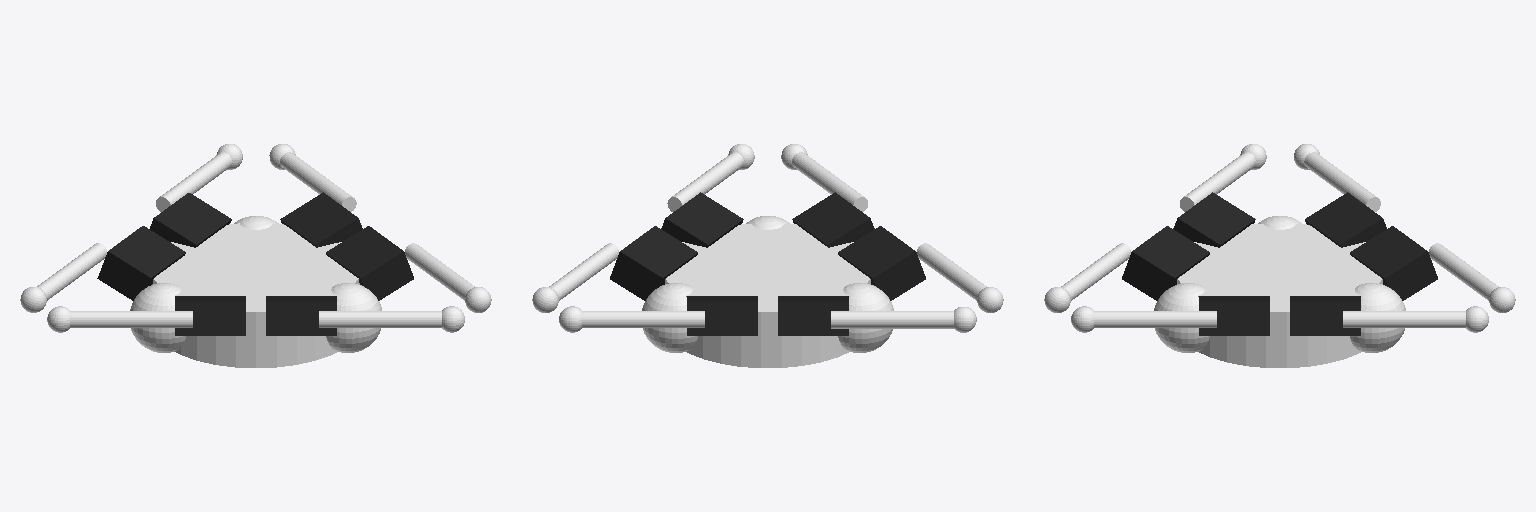
robot.urdf — robot:
<?xml version="1.0" ?>
<!-- =================================================================================== -->
<!-- |    This document was autogenerated by xacro from robot.urdf.xacro               | -->
<!-- |    EDITING THIS FILE BY HAND IS NOT RECOMMENDED                                 | -->
<!-- =================================================================================== -->
<robot name="robot">
  <!--model of the base of the robot without collision on the main geometries. Spheres are used to set collisions-->
  <material name="white">
    <color rgba="0.95 0.95 0.95 1"/>
  </material>
  <material name="black">
    <color rgba="0.2 0.2 0.2 1"/>
  </material>
  <!--Base  of the robot -->
  <link name="base_link">
    <visual>
      <material name="white"/>
      <geometry>
        <cylinder length="0.035" radius="0.06"/>
        <!-- <mesh filename="package://robot/urdf/simplified_base_model.stl"/> -->
      </geometry>
      <origin rpy="0 0 -0.523" xyz="0 0 0.02"/>
    </visual>
    <inertial>
      <origin rpy="0 0 0" xyz="0 0 1"/>
      <mass value="0.15"/>
      <inertia ixx="0.00024" ixy="0.0" ixz="0.0" iyy="0.00025" iyz="0.0" izz="0.00041"/>
    </inertial>
  </link>
  <!--servo link macro-->
  <!--macro for collision spheres-->
  <!--add collision spheres to base-->
  <joint name="collision_joint1" type="fixed">
    <parent link="base_link"/>
    <child link="collision_link1"/>
    <origin xyz="-0.06 0.0 0.02"/>
  </joint>
  <link name="collision_link1">
    <visual>
      <material name="white"/>
      <geometry>
        <sphere radius="0.02"/>
      </geometry>
    </visual>
    <collision>
      <geometry>
        <sphere radius="0.02"/>
      </geometry>
    </collision>
    <inertial>
      <origin xyz="0.0 0.0 0.0"/>
      <mass value="0.06"/>
      <inertia ixx="0.000015" ixy="0.0" ixz="0.0" iyy="0.000015" iyz="0.0" izz="0.000015"/>
    </inertial>
  </link>
  <joint name="collision_joint2" type="fixed">
    <parent link="base_link"/>
    <child link="collision_link2"/>
    <origin xyz="0.03 -0.0519 0.02"/>
  </joint>
  <link name="collision_link2">
    <visual>
      <material name="white"/>
      <geometry>
        <sphere radius="0.02"/>
      </geometry>
    </visual>
    <collision>
      <geometry>
        <sphere radius="0.02"/>
      </geometry>
    </collision>
    <inertial>
      <origin xyz="0.0 0.0 0.0"/>
      <mass value="0.06"/>
      <inertia ixx="0.000015" ixy="0.0" ixz="0.0" iyy="0.000015" iyz="0.0" izz="0.000015"/>
    </inertial>
  </link>
  <joint name="collision_joint3" type="fixed">
    <parent link="base_link"/>
    <child link="collision_link3"/>
    <origin xyz="0.03 0.0519 0.02"/>
  </joint>
  <link name="collision_link3">
    <visual>
      <material name="white"/>
      <geometry>
        <sphere radius="0.02"/>
      </geometry>
    </visual>
    <collision>
      <geometry>
        <sphere radius="0.02"/>
      </geometry>
    </collision>
    <inertial>
      <origin xyz="0.0 0.0 0.0"/>
      <mass value="0.06"/>
      <inertia ixx="0.000015" ixy="0.0" ixz="0.0" iyy="0.000015" iyz="0.0" izz="0.000015"/>
    </inertial>
  </link>
  <!--add joints and links for the servos -->
  <joint name="servo1_joint" type="fixed">
    <parent link="base_link"/>
    <child link="servo1_link"/>
    <origin rpy="0 -0.349066 2.0944" xyz="-0.07159 0.05282 0.043"/>
  </joint>
  <link name="servo1_link">
    <visual>
      <material name="black"/>
      <geometry>
        <box size="0.030 0.040 0.020"/>
      </geometry>
      <origin xyz="-0.023 -0.010 0"/>
    </visual>
    <inertial>
      <origin xyz="-0.023 -0.010 0"/>
      <mass value="0.060"/>
      <inertia ixx="0.00001" ixy="0.0" ixz="0.0" iyy="0.0000065" iyz="0.0" izz="0.0000125"/>
    </inertial>
  </link>
  <joint name="servo2_joint" type="fixed">
    <parent link="base_link"/>
    <child link="servo2_link"/>
    <origin rpy="3.14159 -0.349066 2.0944" xyz="-0.00967 0.08825 0.043"/>
  </joint>
  <link name="servo2_link">
    <visual>
      <material name="black"/>
      <geometry>
        <box size="0.030 0.040 0.020"/>
      </geometry>
      <origin xyz="-0.023 -0.010 0"/>
    </visual>
    <inertial>
      <origin xyz="-0.023 -0.010 0"/>
      <mass value="0.060"/>
      <inertia ixx="0.00001" ixy="0.0" ixz="0.0" iyy="0.0000065" iyz="0.0" izz="0.0000125"/>
    </inertial>
  </link>
  <joint name="servo3_joint" type="fixed">
    <parent link="base_link"/>
    <child link="servo3_link"/>
    <origin rpy="0 -0.349066 0" xyz="0.08126 0.03575 0.043"/>
  </joint>
  <link name="servo3_link">
    <visual>
      <material name="black"/>
      <geometry>
        <box size="0.030 0.040 0.020"/>
      </geometry>
      <origin xyz="-0.023 -0.010 0"/>
    </visual>
    <inertial>
      <origin xyz="-0.023 -0.010 0"/>
      <mass value="0.060"/>
      <inertia ixx="0.00001" ixy="0.0" ixz="0.0" iyy="0.0000065" iyz="0.0" izz="0.0000125"/>
    </inertial>
  </link>
  <joint name="servo4_joint" type="fixed">
    <parent link="base_link"/>
    <child link="servo4_link"/>
    <origin rpy="3.14159 -0.349066 0" xyz="0.08126 -0.03567 0.043"/>
  </joint>
  <link name="servo4_link">
    <visual>
      <material name="black"/>
      <geometry>
        <box size="0.030 0.040 0.020"/>
      </geometry>
      <origin xyz="-0.023 -0.010 0"/>
    </visual>
    <inertial>
      <origin xyz="-0.023 -0.010 0"/>
      <mass value="0.060"/>
      <inertia ixx="0.00001" ixy="0.0" ixz="0.0" iyy="0.0000065" iyz="0.0" izz="0.0000125"/>
    </inertial>
  </link>
  <joint name="servo5_joint" type="fixed">
    <parent link="base_link"/>
    <child link="servo5_link"/>
    <origin rpy="0 -0.349066 4.18879" xyz="-0.00967 -0.08825 0.043"/>
  </joint>
  <link name="servo5_link">
    <visual>
      <material name="black"/>
      <geometry>
        <box size="0.030 0.040 0.020"/>
      </geometry>
      <origin xyz="-0.023 -0.010 0"/>
    </visual>
    <inertial>
      <origin xyz="-0.023 -0.010 0"/>
      <mass value="0.060"/>
      <inertia ixx="0.00001" ixy="0.0" ixz="0.0" iyy="0.0000065" iyz="0.0" izz="0.0000125"/>
    </inertial>
  </link>
  <joint name="servo6_joint" type="fixed">
    <parent link="base_link"/>
    <child link="servo6_link"/>
    <origin rpy="3.14159 -0.349066 4.18879" xyz="-0.07159 -0.0525 0.043"/>
  </joint>
  <link name="servo6_link">
    <visual>
      <material name="black"/>
      <geometry>
        <box size="0.030 0.040 0.020"/>
      </geometry>
      <origin xyz="-0.023 -0.010 0"/>
    </visual>
    <inertial>
      <origin xyz="-0.023 -0.010 0"/>
      <mass value="0.060"/>
      <inertia ixx="0.00001" ixy="0.0" ixz="0.0" iyy="0.0000065" iyz="0.0" izz="0.0000125"/>
    </inertial>
  </link>
  <!--macro for setting up arm link and joint-->
  <!--call short_arm macro to create all 6 arms-->
  <joint name="short_arm1_joint" type="revolute">
    <parent link="servo1_link"/>
    <child link="short_arm1_link"/>
    <origin rpy="0 0 0" xyz="0 0 0"/>
    <axis xyz="1 0 0"/>
    <limit effort=".12" lower="-1.5708" upper="1.5708" velocity="5"/>
    <dynamics damping="1.0" friction="0.2"/>
  </joint>
  <link name="short_arm1_link">
    <visual>
      <material name="white"/>
      <geometry>
        <cylinder length="0.075" radius="0.005"/>
      </geometry>
      <origin rpy="1.5708 0 0" xyz="0 0.0375 0"/>
    </visual>
    <inertial>
      <origin rpy="1.5708 0 0" xyz="0 0.0375 0"/>
      <mass value="0.060"/>
      <inertia ixx="0.00001" ixy="0.0" ixz="0.0" iyy="0.0000065" iyz="0.0" izz="0.0000125"/>
    </inertial>
  </link>
  <joint name="end_short_arm1_joint" type="fixed">
    <parent link="short_arm1_link"/>
    <child link="end_short_arm1_link"/>
    <origin xyz="0 0.075 0"/>
  </joint>
  <link name="end_short_arm1_link">
    <visual>
      <material name="white"/>
      <geometry>
        <sphere radius="0.0075"/>
      </geometry>
    </visual>
    <collision>
      <geometry>
        <sphere radius="0.0075"/>
      </geometry>
    </collision>
    <inertial>
      <origin xyz="0.0 0.0 0.0"/>
      <mass value="0.01"/>
      <inertia ixx="0.000002" ixy="0.0" ixz="0.0" iyy="0.000002" iyz="0.0" izz="0.000002"/>
    </inertial>
  </link>
  <joint name="short_arm2_joint" type="revolute">
    <parent link="servo2_link"/>
    <child link="short_arm2_link"/>
    <origin rpy="0 0 0" xyz="0 0 0"/>
    <axis xyz="1 0 0"/>
    <limit effort=".12" lower="-1.5708" upper="1.5708" velocity="5"/>
    <dynamics damping="1.0" friction="0.2"/>
  </joint>
  <link name="short_arm2_link">
    <visual>
      <material name="white"/>
      <geometry>
        <cylinder length="0.075" radius="0.005"/>
      </geometry>
      <origin rpy="1.5708 0 0" xyz="0 0.0375 0"/>
    </visual>
    <inertial>
      <origin rpy="1.5708 0 0" xyz="0 0.0375 0"/>
      <mass value="0.060"/>
      <inertia ixx="0.00001" ixy="0.0" ixz="0.0" iyy="0.0000065" iyz="0.0" izz="0.0000125"/>
    </inertial>
  </link>
  <joint name="end_short_arm2_joint" type="fixed">
    <parent link="short_arm2_link"/>
    <child link="end_short_arm2_link"/>
    <origin xyz="0 0.075 0"/>
  </joint>
  <link name="end_short_arm2_link">
    <visual>
      <material name="white"/>
      <geometry>
        <sphere radius="0.0075"/>
      </geometry>
    </visual>
    <collision>
      <geometry>
        <sphere radius="0.0075"/>
      </geometry>
    </collision>
    <inertial>
      <origin xyz="0.0 0.0 0.0"/>
      <mass value="0.01"/>
      <inertia ixx="0.000002" ixy="0.0" ixz="0.0" iyy="0.000002" iyz="0.0" izz="0.000002"/>
    </inertial>
  </link>
  <joint name="short_arm3_joint" type="revolute">
    <parent link="servo3_link"/>
    <child link="short_arm3_link"/>
    <origin rpy="0 0 0" xyz="0 0 0"/>
    <axis xyz="1 0 0"/>
    <limit effort=".12" lower="-1.5708" upper="1.5708" velocity="5"/>
    <dynamics damping="1.0" friction="0.2"/>
  </joint>
  <link name="short_arm3_link">
    <visual>
      <material name="white"/>
      <geometry>
        <cylinder length="0.075" radius="0.005"/>
      </geometry>
      <origin rpy="1.5708 0 0" xyz="0 0.0375 0"/>
    </visual>
    <inertial>
      <origin rpy="1.5708 0 0" xyz="0 0.0375 0"/>
      <mass value="0.060"/>
      <inertia ixx="0.00001" ixy="0.0" ixz="0.0" iyy="0.0000065" iyz="0.0" izz="0.0000125"/>
    </inertial>
  </link>
  <joint name="end_short_arm3_joint" type="fixed">
    <parent link="short_arm3_link"/>
    <child link="end_short_arm3_link"/>
    <origin xyz="0 0.075 0"/>
  </joint>
  <link name="end_short_arm3_link">
    <visual>
      <material name="white"/>
      <geometry>
        <sphere radius="0.0075"/>
      </geometry>
    </visual>
    <collision>
      <geometry>
        <sphere radius="0.0075"/>
      </geometry>
    </collision>
    <inertial>
      <origin xyz="0.0 0.0 0.0"/>
      <mass value="0.01"/>
      <inertia ixx="0.000002" ixy="0.0" ixz="0.0" iyy="0.000002" iyz="0.0" izz="0.000002"/>
    </inertial>
  </link>
  <joint name="short_arm4_joint" type="revolute">
    <parent link="servo4_link"/>
    <child link="short_arm4_link"/>
    <origin rpy="0 0 0" xyz="0 0 0"/>
    <axis xyz="1 0 0"/>
    <limit effort=".12" lower="-1.5708" upper="1.5708" velocity="5"/>
    <dynamics damping="1.0" friction="0.2"/>
  </joint>
  <link name="short_arm4_link">
    <visual>
      <material name="white"/>
      <geometry>
        <cylinder length="0.075" radius="0.005"/>
      </geometry>
      <origin rpy="1.5708 0 0" xyz="0 0.0375 0"/>
    </visual>
    <inertial>
      <origin rpy="1.5708 0 0" xyz="0 0.0375 0"/>
      <mass value="0.060"/>
      <inertia ixx="0.00001" ixy="0.0" ixz="0.0" iyy="0.0000065" iyz="0.0" izz="0.0000125"/>
    </inertial>
  </link>
  <joint name="end_short_arm4_joint" type="fixed">
    <parent link="short_arm4_link"/>
    <child link="end_short_arm4_link"/>
    <origin xyz="0 0.075 0"/>
  </joint>
  <link name="end_short_arm4_link">
    <visual>
      <material name="white"/>
      <geometry>
        <sphere radius="0.0075"/>
      </geometry>
    </visual>
    <collision>
      <geometry>
        <sphere radius="0.0075"/>
      </geometry>
    </collision>
    <inertial>
      <origin xyz="0.0 0.0 0.0"/>
      <mass value="0.01"/>
      <inertia ixx="0.000002" ixy="0.0" ixz="0.0" iyy="0.000002" iyz="0.0" izz="0.000002"/>
    </inertial>
  </link>
  <joint name="short_arm5_joint" type="revolute">
    <parent link="servo5_link"/>
    <child link="short_arm5_link"/>
    <origin rpy="0 0 0" xyz="0 0 0"/>
    <axis xyz="1 0 0"/>
    <limit effort=".12" lower="-1.5708" upper="1.5708" velocity="5"/>
    <dynamics damping="1.0" friction="0.2"/>
  </joint>
  <link name="short_arm5_link">
    <visual>
      <material name="white"/>
      <geometry>
        <cylinder length="0.075" radius="0.005"/>
      </geometry>
      <origin rpy="1.5708 0 0" xyz="0 0.0375 0"/>
    </visual>
    <inertial>
      <origin rpy="1.5708 0 0" xyz="0 0.0375 0"/>
      <mass value="0.060"/>
      <inertia ixx="0.00001" ixy="0.0" ixz="0.0" iyy="0.0000065" iyz="0.0" izz="0.0000125"/>
    </inertial>
  </link>
  <joint name="end_short_arm5_joint" type="fixed">
    <parent link="short_arm5_link"/>
    <child link="end_short_arm5_link"/>
    <origin xyz="0 0.075 0"/>
  </joint>
  <link name="end_short_arm5_link">
    <visual>
      <material name="white"/>
      <geometry>
        <sphere radius="0.0075"/>
      </geometry>
    </visual>
    <collision>
      <geometry>
        <sphere radius="0.0075"/>
      </geometry>
    </collision>
    <inertial>
      <origin xyz="0.0 0.0 0.0"/>
      <mass value="0.01"/>
      <inertia ixx="0.000002" ixy="0.0" ixz="0.0" iyy="0.000002" iyz="0.0" izz="0.000002"/>
    </inertial>
  </link>
  <joint name="short_arm6_joint" type="revolute">
    <parent link="servo6_link"/>
    <child link="short_arm6_link"/>
    <origin rpy="0 0 0" xyz="0 0 0"/>
    <axis xyz="1 0 0"/>
    <limit effort=".12" lower="-1.5708" upper="1.5708" velocity="5"/>
    <dynamics damping="1.0" friction="0.2"/>
  </joint>
  <link name="short_arm6_link">
    <visual>
      <material name="white"/>
      <geometry>
        <cylinder length="0.075" radius="0.005"/>
      </geometry>
      <origin rpy="1.5708 0 0" xyz="0 0.0375 0"/>
    </visual>
    <inertial>
      <origin rpy="1.5708 0 0" xyz="0 0.0375 0"/>
      <mass value="0.060"/>
      <inertia ixx="0.00001" ixy="0.0" ixz="0.0" iyy="0.0000065" iyz="0.0" izz="0.0000125"/>
    </inertial>
  </link>
  <joint name="end_short_arm6_joint" type="fixed">
    <parent link="short_arm6_link"/>
    <child link="end_short_arm6_link"/>
    <origin xyz="0 0.075 0"/>
  </joint>
  <link name="end_short_arm6_link">
    <visual>
      <material name="white"/>
      <geometry>
        <sphere radius="0.0075"/>
      </geometry>
    </visual>
    <collision>
      <geometry>
        <sphere radius="0.0075"/>
      </geometry>
    </collision>
    <inertial>
      <origin xyz="0.0 0.0 0.0"/>
      <mass value="0.01"/>
      <inertia ixx="0.000002" ixy="0.0" ixz="0.0" iyy="0.000002" iyz="0.0" izz="0.000002"/>
    </inertial>
  </link>
  <!-- This file demonstrates the use of some <gazebo> tags -->
  <!-- To include it add the following line -->
  <!-- <xacro:include filename="example_gazebo.xacro" /> -->
  <!-- Gazebo is unable to use the same <material> tags that are already in the URDF (that RViz uses). -->
  <!-- Instead, we need to add gazebo tags for our links that refer to Gazebo materials -->
  <gazebo reference="collision_link1">
    <mu1>0.2</mu1>
    <mu2>0.3</mu2>
  </gazebo>
  <gazebo reference="collision_link2">
    <mu1>0.2</mu1>
    <mu2>0.3</mu2>
  </gazebo>
  <gazebo reference="collision_link3">
    <mu1>0.2</mu1>
    <mu2>0.3</mu2>
  </gazebo>
  <gazebo reference="end_short_arm1_link">
    <mu1>0.2</mu1>
    <mu2>0.3</mu2>
  </gazebo>
  <gazebo reference="end_short_arm2_link">
    <mu1>0.2</mu1>
    <mu2>0.3</mu2>
  </gazebo>
  <gazebo reference="end_short_arm3_link">
    <mu1>0.2</mu1>
    <mu2>0.3</mu2>
  </gazebo>
  <gazebo reference="end_short_arm4_link">
    <mu1>0.2</mu1>
    <mu2>0.3</mu2>
  </gazebo>
  <gazebo reference="end_short_arm5_link">
    <mu1>0.2</mu1>
    <mu2>0.3</mu2>
  </gazebo>
  <gazebo reference="end_short_arm6_link">
    <mu1>0.2</mu1>
    <mu2>0.3</mu2>
  </gazebo>
  <gazebo reference="base_link">
    <material>Gazebo/Green</material>
  </gazebo>
  <gazebo reference="servo1_link">
    <material>Gazebo/Blue</material>
  </gazebo>
  <gazebo reference="servo2_link">
    <material>Gazebo/Blue</material>
  </gazebo>
  <gazebo reference="servo3_link">
    <material>Gazebo/Blue</material>
  </gazebo>
  <gazebo reference="servo4_link">
    <material>Gazebo/Blue</material>
  </gazebo>
  <gazebo reference="servo5_link">
    <material>Gazebo/Blue</material>
  </gazebo>
  <gazebo reference="servo6_link">
    <material>Gazebo/Blue</material>
  </gazebo>
  <gazebo reference="short_arm1_link">
    <material>Gazebo/Orange</material>
  </gazebo>
  <gazebo reference="short_arm2_link">
    <material>Gazebo/Orange</material>
  </gazebo>
  <gazebo reference="short_arm3_link">
    <material>Gazebo/Orange</material>
  </gazebo>
  <gazebo reference="short_arm4_link">
    <material>Gazebo/Orange</material>
  </gazebo>
  <gazebo reference="short_arm5_link">
    <material>Gazebo/Orange</material>
  </gazebo>
  <gazebo reference="short_arm6_link">
    <material>Gazebo/Orange</material>
  </gazebo>
  <!-- Gazebo requires the use of plugins to interact with other systems such as ROS. -->
  <!-- This plugin will publish the joint_states for the selected joints 
            (which robot_state_publisher can then use to broadcast the approprate tf). -->
  <gazebo>
    <plugin filename="libgazebo_ros_joint_state_publisher.so" name="gazebo_ros_joint_state_publisher">
      <update_rate>20</update_rate>
      <joint_name>short_arm1_joint</joint_name>
      <joint_name>short_arm2_joint</joint_name>
      <joint_name>short_arm3_joint</joint_name>
      <joint_name>short_arm4_joint</joint_name>
      <joint_name>short_arm5_joint</joint_name>
      <joint_name>short_arm6_joint</joint_name>
    </plugin>
  </gazebo>
  <!-- This plugin will read a JointTrajectory message from the /set_joint_trajectory topic 
            and move the machine accordingly. It's a bit clunky but it works. -->
  <!-- You'll probably want to add damping to the joints to stop them it flopping around. 
            e.g. <dynamics damping="10.0" friction="10.0"/> -->
  <!-- Here's an example message to publish to test it:
            ros2 topic pub -1 /set_joint_trajectory trajectory_msgs/msg/JointTrajectory  '{header: {frame_id: world}, joint_names: [slider_joint, arm_joint], points: [  {positions: {0.8,0.6}} ]}' -->
  <gazebo>
    <plugin filename="libgazebo_ros_joint_pose_trajectory.so" name="gazebo_ros_joint_pose_trajectory">
      <!--#<update_rate>20</update_rate>-->
    </plugin>
  </gazebo>
</robot>

--- Render facts (derived) ---
Views: 3 orthographic renders of the robot side by side, from view 1: azimuth 30°, elevation 25°; view 2: azimuth 150°, elevation 25°; view 3: azimuth 270°, elevation 25°.
Robot: robot — 22 links, 21 joints (6 revolute, 15 fixed); root link base_link; default pose: all joints at 0.
Visible links, largest first — view 1: base_link, servo1_link, servo4_link, servo2_link, servo3_link, servo5_link, servo6_link, short_arm5_link, short_arm6_link, collision_link2, collision_link1, short_arm2_link (+5 smaller); view 2: base_link, servo3_link, servo6_link, servo4_link, servo5_link, servo2_link, servo1_link, short_arm1_link, short_arm2_link, collision_link3, collision_link1, short_arm4_link (+5 smaller); view 3: base_link, servo2_link, servo5_link, servo6_link, servo1_link, servo3_link, servo4_link, short_arm3_link, short_arm4_link, collision_link3, collision_link2, short_arm1_link (+5 smaller).
Link boxes in pixels (bbox=[...]): base_link: bbox=[152, 223, 359, 367]; servo1_link: bbox=[97, 226, 185, 300]; servo4_link: bbox=[326, 226, 413, 300]; servo2_link: bbox=[150, 193, 231, 247]; servo3_link: bbox=[280, 192, 362, 247]; servo5_link: bbox=[266, 296, 336, 335]; servo6_link: bbox=[175, 296, 245, 335]; short_arm5_link: bbox=[319, 311, 441, 327]; short_arm6_link: bbox=[70, 311, 192, 327]; collision_link2: bbox=[326, 283, 381, 352]; collision_link1: bbox=[130, 283, 185, 352]; short_arm2_link: bbox=[156, 152, 231, 211]; base_link: bbox=[665, 224, 870, 367]; servo3_link: bbox=[610, 226, 697, 300]; servo6_link: bbox=[838, 226, 925, 300]; servo4_link: bbox=[661, 192, 743, 247]; servo5_link: bbox=[792, 192, 874, 247]; servo2_link: bbox=[687, 296, 757, 335]; servo1_link: bbox=[778, 296, 848, 335]; short_arm1_link: bbox=[831, 311, 953, 328]; short_arm2_link: bbox=[582, 311, 704, 327]; collision_link3: bbox=[642, 283, 697, 352]; collision_link1: bbox=[838, 283, 893, 352]; short_arm4_link: bbox=[667, 152, 743, 211]; base_link: bbox=[1177, 224, 1382, 367]; servo2_link: bbox=[1350, 226, 1437, 300]; servo5_link: bbox=[1122, 226, 1209, 300]; servo6_link: bbox=[1173, 192, 1255, 247]; servo1_link: bbox=[1305, 192, 1386, 247]; servo3_link: bbox=[1290, 296, 1360, 335]; servo4_link: bbox=[1199, 296, 1269, 335]; short_arm3_link: bbox=[1343, 311, 1465, 327]; short_arm4_link: bbox=[1094, 311, 1216, 327]; collision_link3: bbox=[1350, 283, 1405, 352]; collision_link2: bbox=[1154, 283, 1209, 352]; short_arm1_link: bbox=[1304, 152, 1380, 211].
Bounding box of the posed robot: 0.2328 × 0.2664 × 0.0505 m (x, y, z).
Geometry: primitives only (box / cylinder / sphere), no mesh files.
